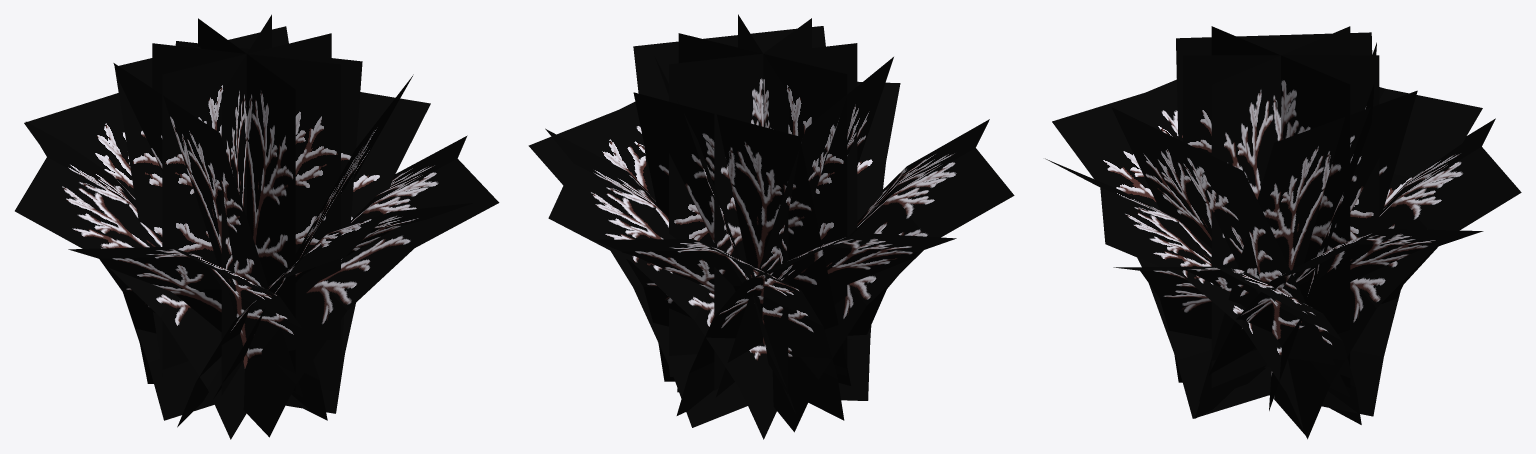
The model's file is bush_3.fbx.
3 views of the same model, side by side, from view 1: azimuth 30°, elevation 25°; view 2: azimuth 150°, elevation 25°; view 3: azimuth 270°, elevation 25° (orthographic).
Visible parts, largest first — view 1: stickbush_3_bush; view 2: stickbush_3_bush; view 3: stickbush_3_bush.
Part boxes in pixels (<box>): stickbush_3_bush: <box>15,14,499,439</box>; stickbush_3_bush: <box>528,14,1014,439</box>; stickbush_3_bush: <box>1045,26,1521,439</box>.
Bounding box in the file's own units: 154 × 117 × 143.
